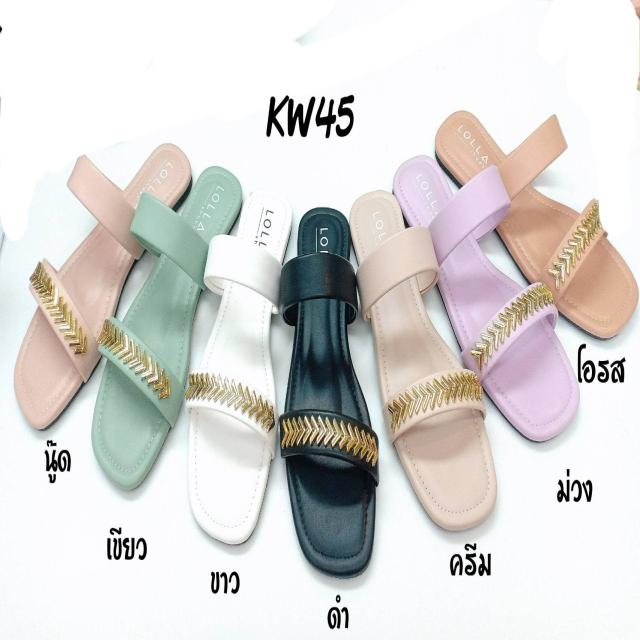black: (289, 210, 374, 573)
cream: (350, 191, 494, 530)
green: (88, 158, 240, 484)
nood: (19, 142, 193, 423)
orot: (437, 103, 640, 329)
purple: (396, 155, 572, 435)
white: (186, 198, 288, 540)
